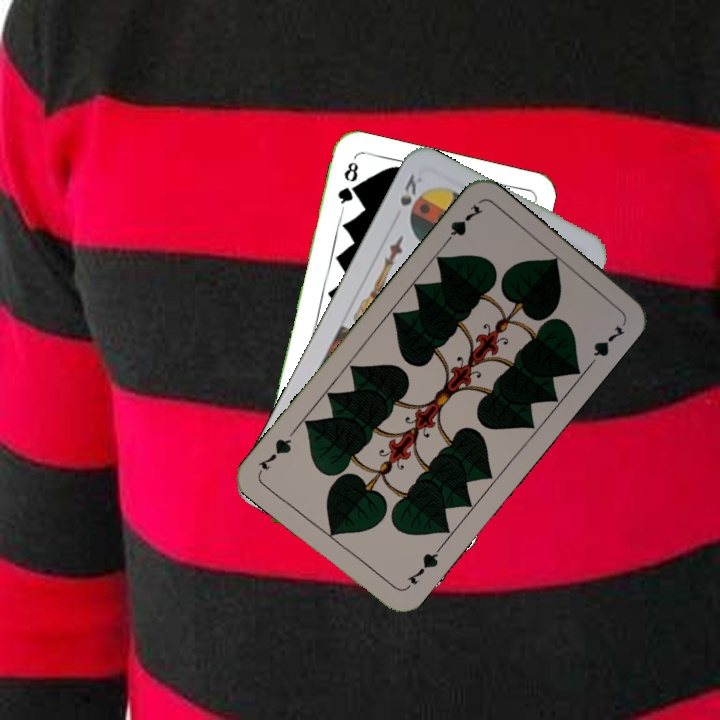G7: (438, 200, 486, 249), (400, 543, 444, 593)
G8: (334, 157, 361, 214)
SK: (396, 170, 425, 209)
